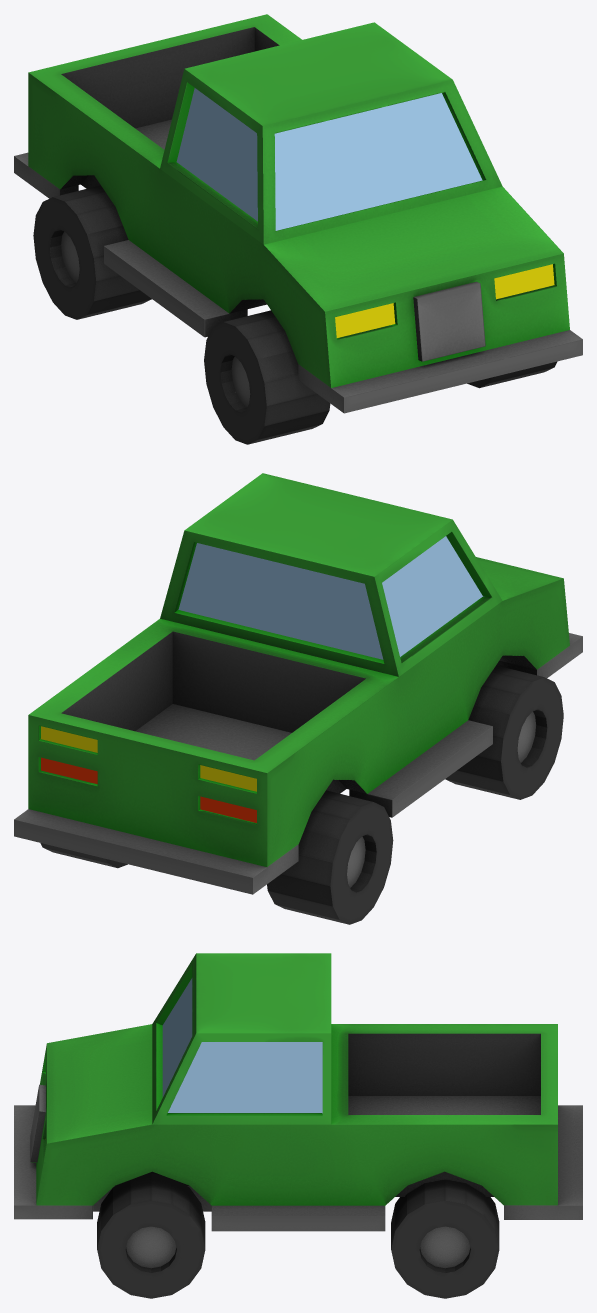
Rendered from low_poly_truck.glb.
The picture shows the model from 3 angles, top to bottom: view 1: azimuth 30°, elevation 25°; view 2: azimuth 150°, elevation 25°; view 3: azimuth 270°, elevation 25°; orthographic projection. The views are drawn at different scales.
Parts seen in each view (by area): view 1: Chassis; view 2: Chassis; view 3: Chassis.
Part boxes in pixels (left/top/right/bottom): Chassis: left=14, top=14, right=582, bottom=444; Chassis: left=14, top=473, right=582, bottom=924; Chassis: left=14, top=953, right=582, bottom=1298.
Bounding box in the file's own units: 6.22 × 5.64 × 11.97.
2 materials, 2 textured.
